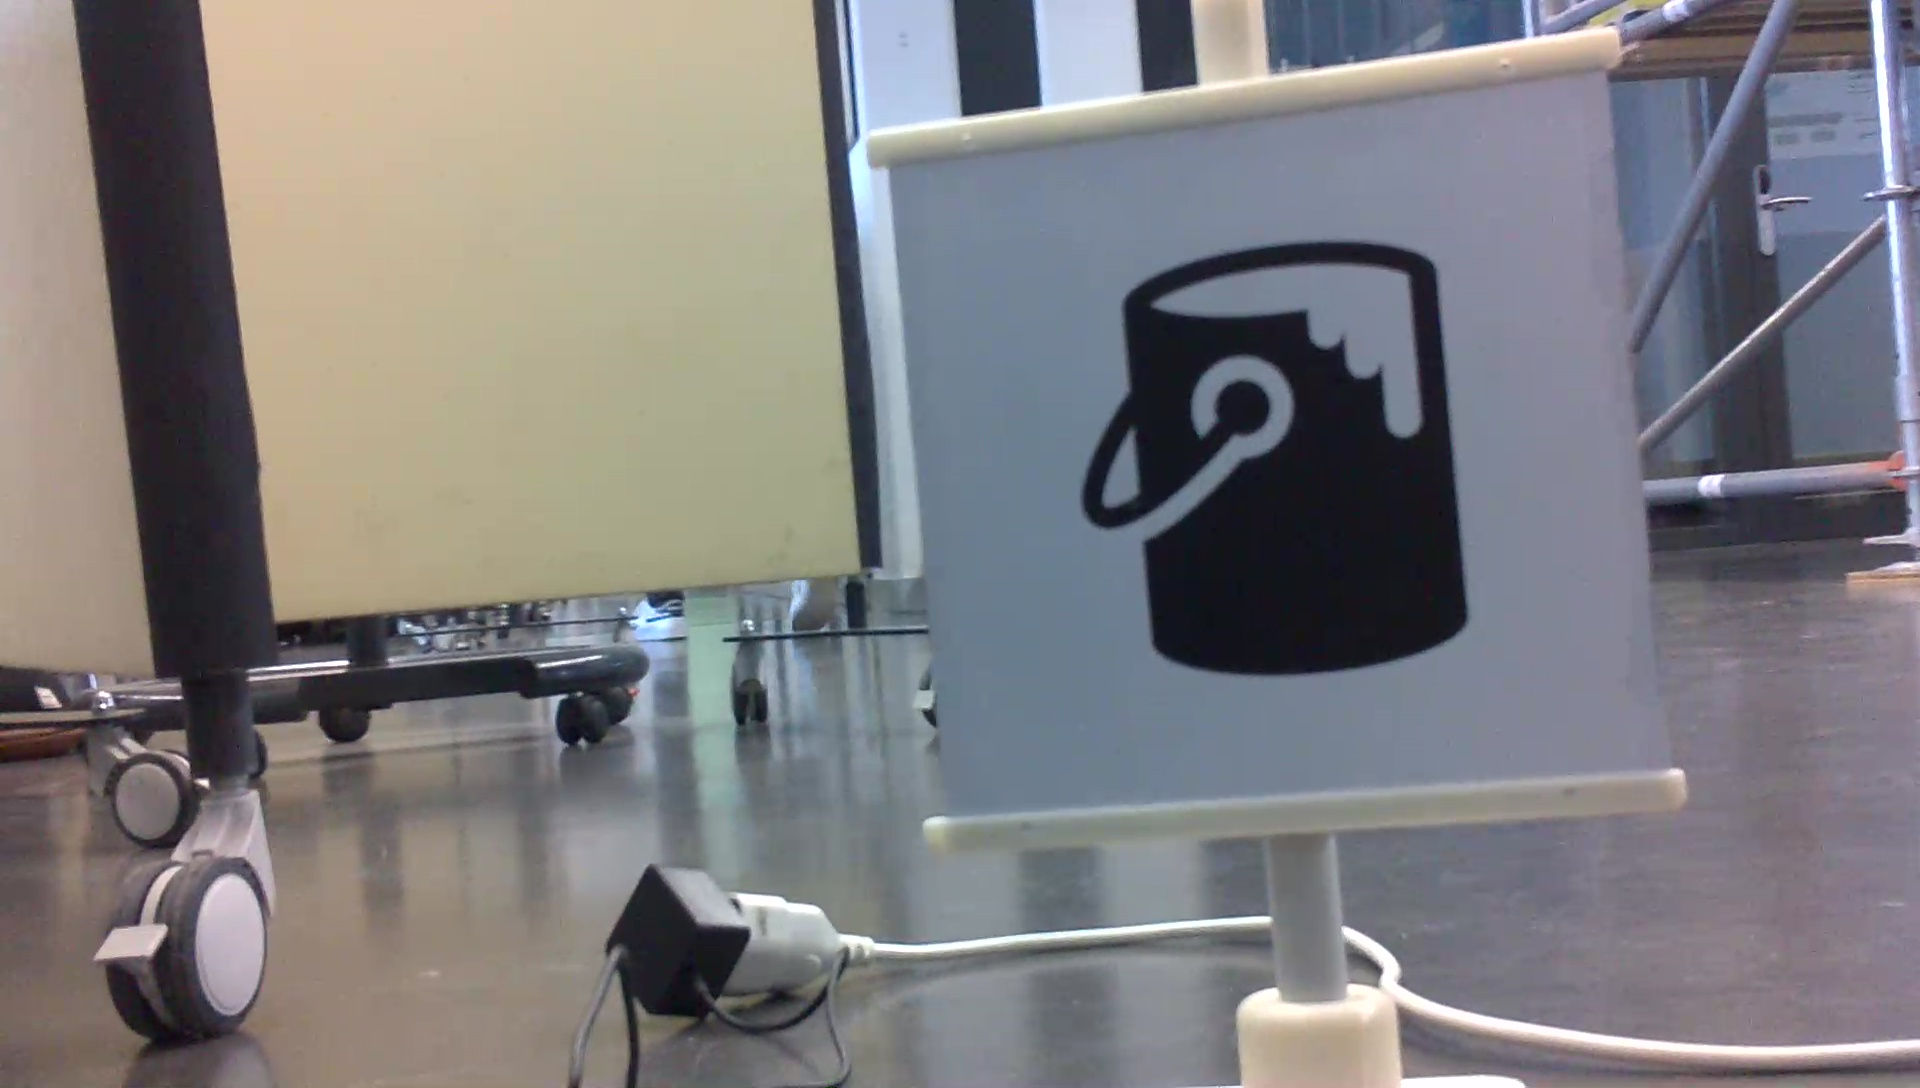bucket: (1069, 226, 1482, 687)
